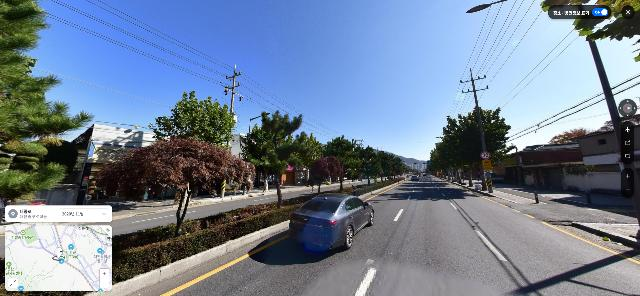other: (97, 135, 256, 237), (148, 91, 236, 198), (241, 109, 305, 208), (438, 106, 512, 187), (321, 135, 363, 191), (292, 132, 321, 187), (309, 155, 344, 196), (356, 145, 382, 186), (541, 127, 590, 144), (375, 150, 394, 183)
